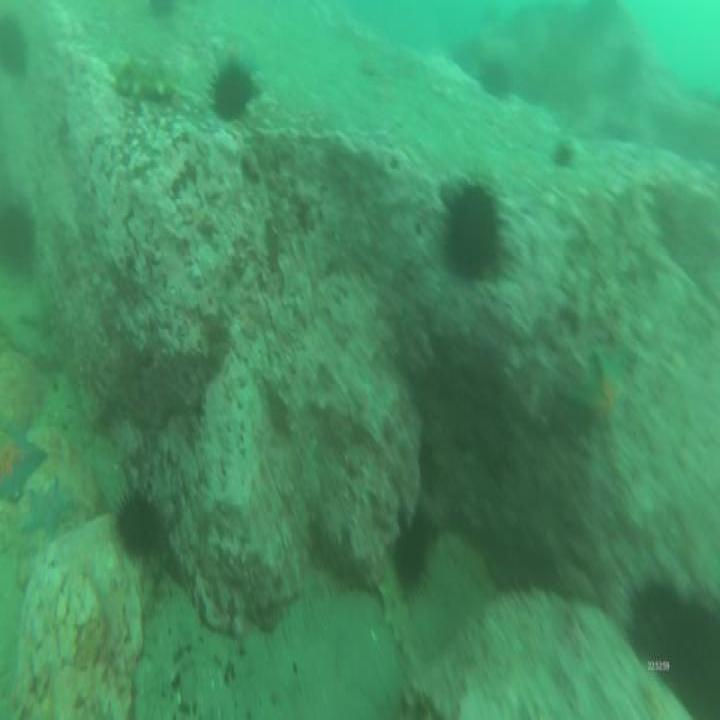echinus: (672, 604, 720, 714), (447, 181, 497, 283), (630, 578, 676, 670), (116, 498, 162, 558), (397, 523, 427, 592), (217, 61, 250, 119)
holothurian: (119, 55, 168, 103)
starfish: (577, 354, 631, 416), (0, 430, 43, 482), (27, 492, 72, 538)
